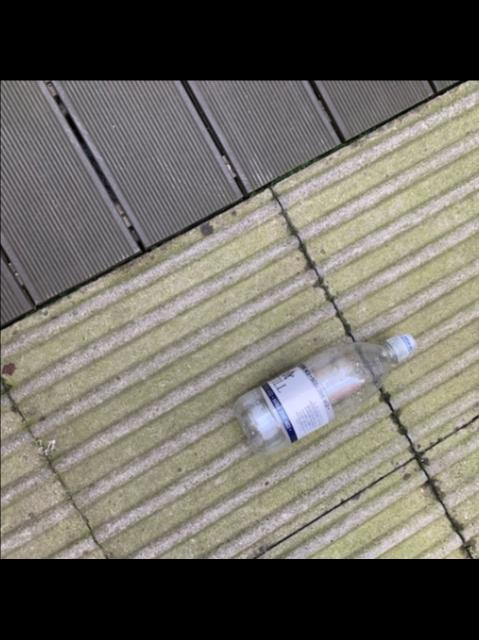plastic: (232, 336, 413, 457)
